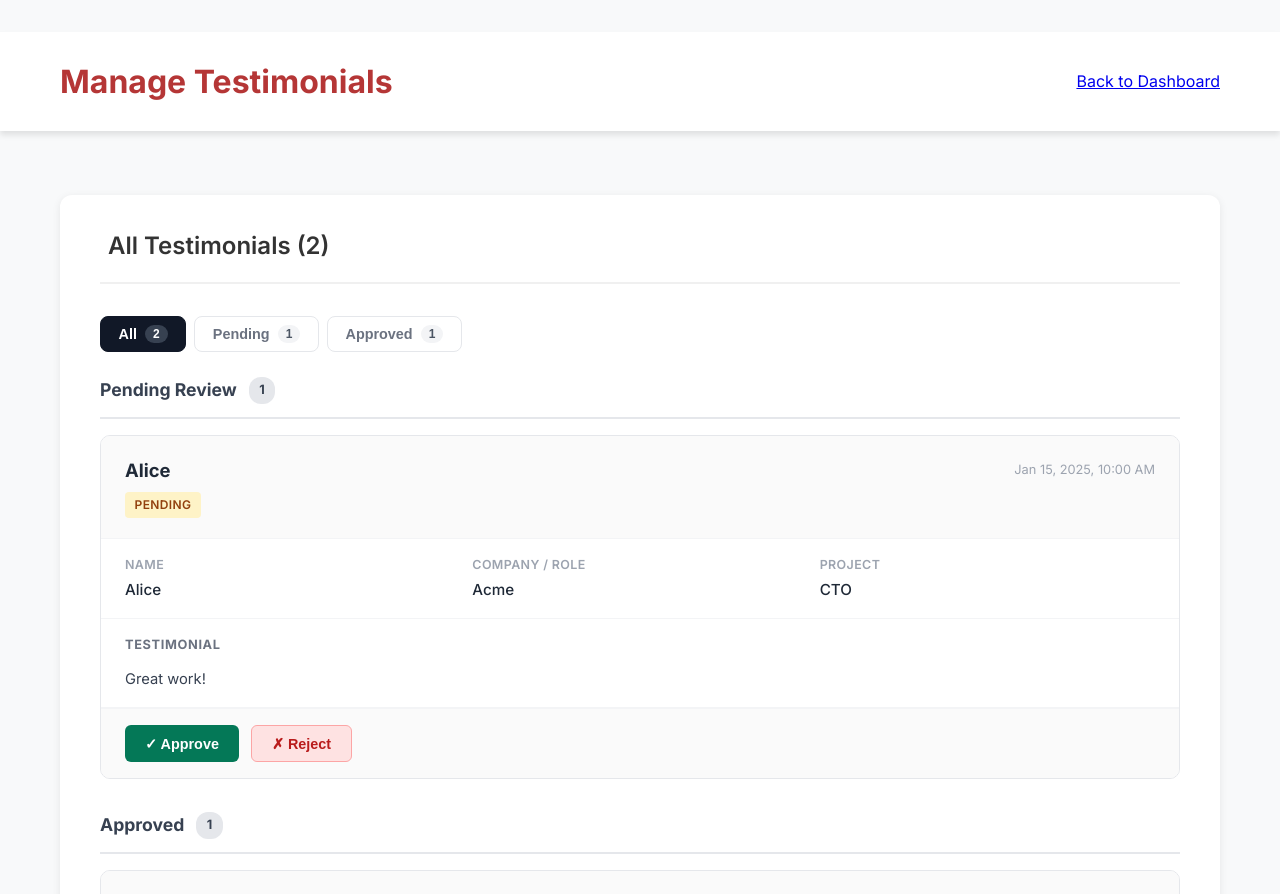
Test: AdminTestimonials › handles approve error
Click the button "✓ Approve". click: {"x": 182, "y": 744}
box: [125, 725, 239, 762]
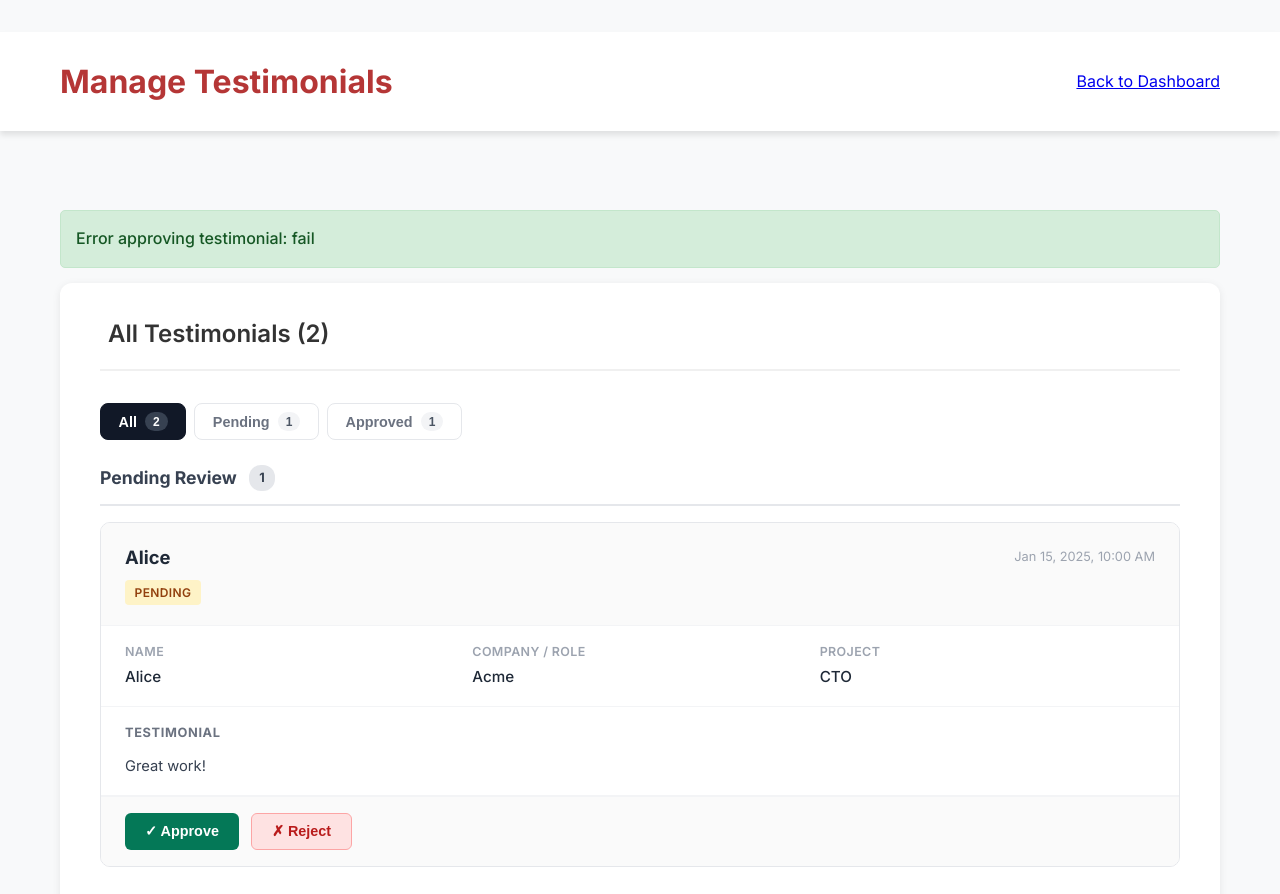
Now the text "Error approving testimonial: fail" is shown, box [60, 210, 1220, 268]
